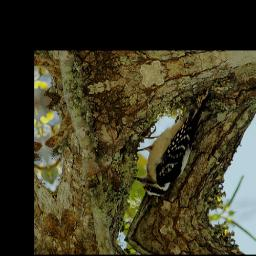Woodpecker: (118, 89, 232, 207)
